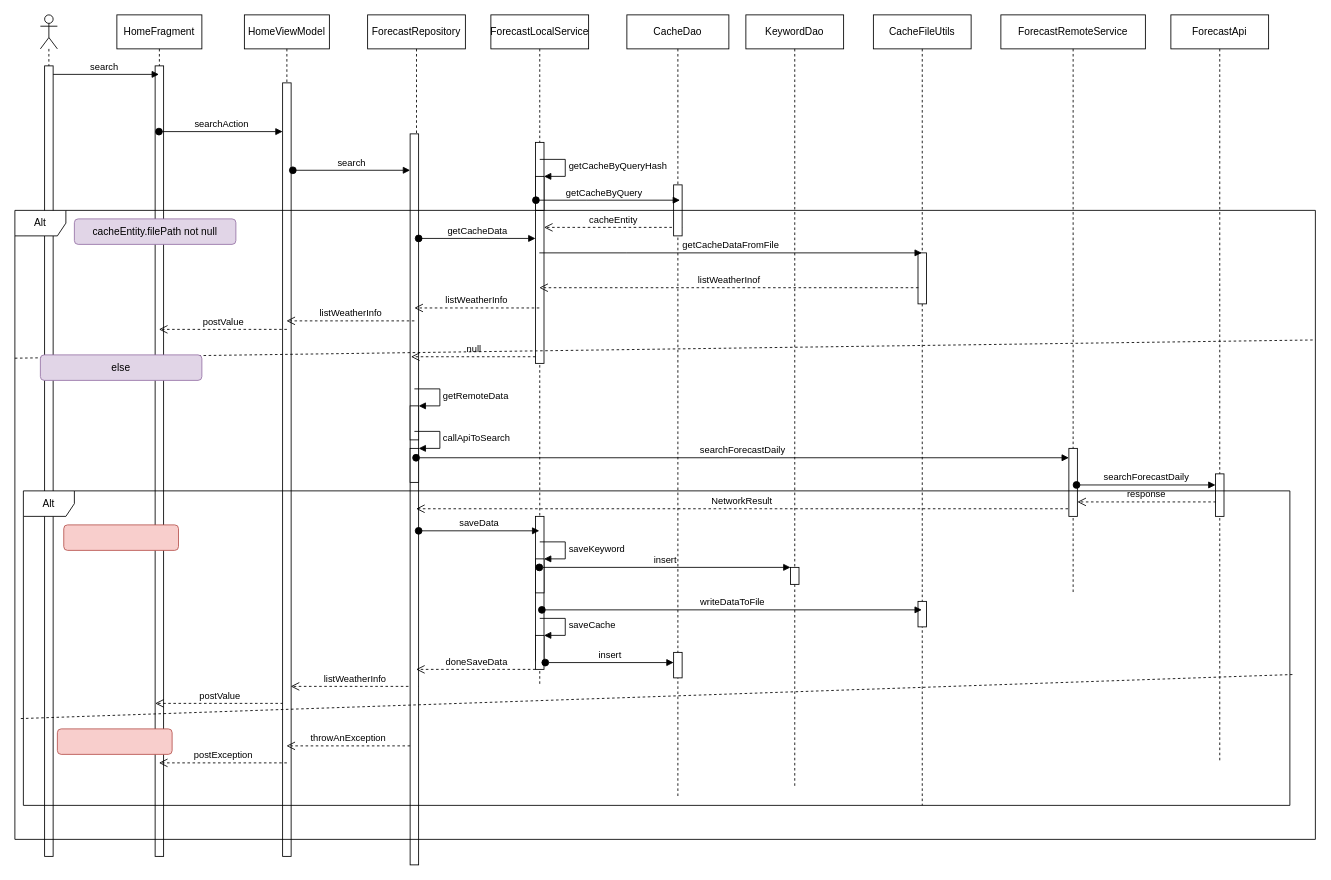
This 1331x880 diagram has some shape labels left out. The shapes that lost their labels are listed below. From the top down, each one's centre as x and y in pixels, then its label:
At (x=120, y=537): "NetworkResult.Success".
At (x=114, y=741): "NetworkResult.Erorr".
